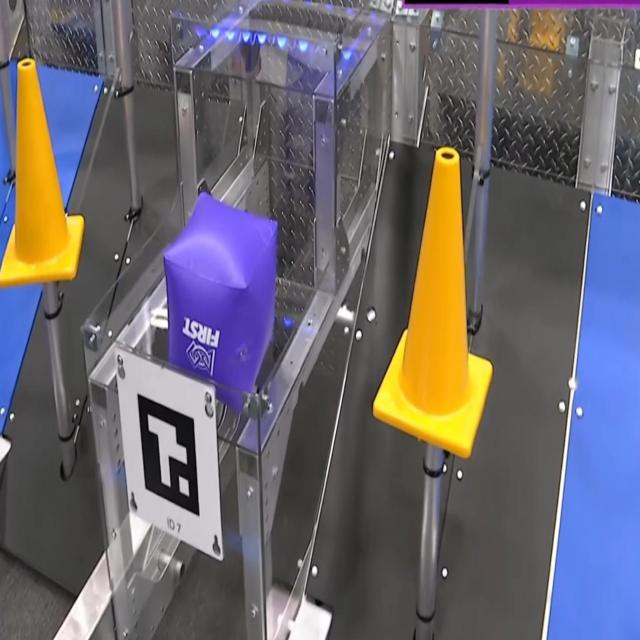frc_cone: (371, 148, 496, 462), (0, 55, 85, 288)
frc_cube: (164, 189, 278, 415)
